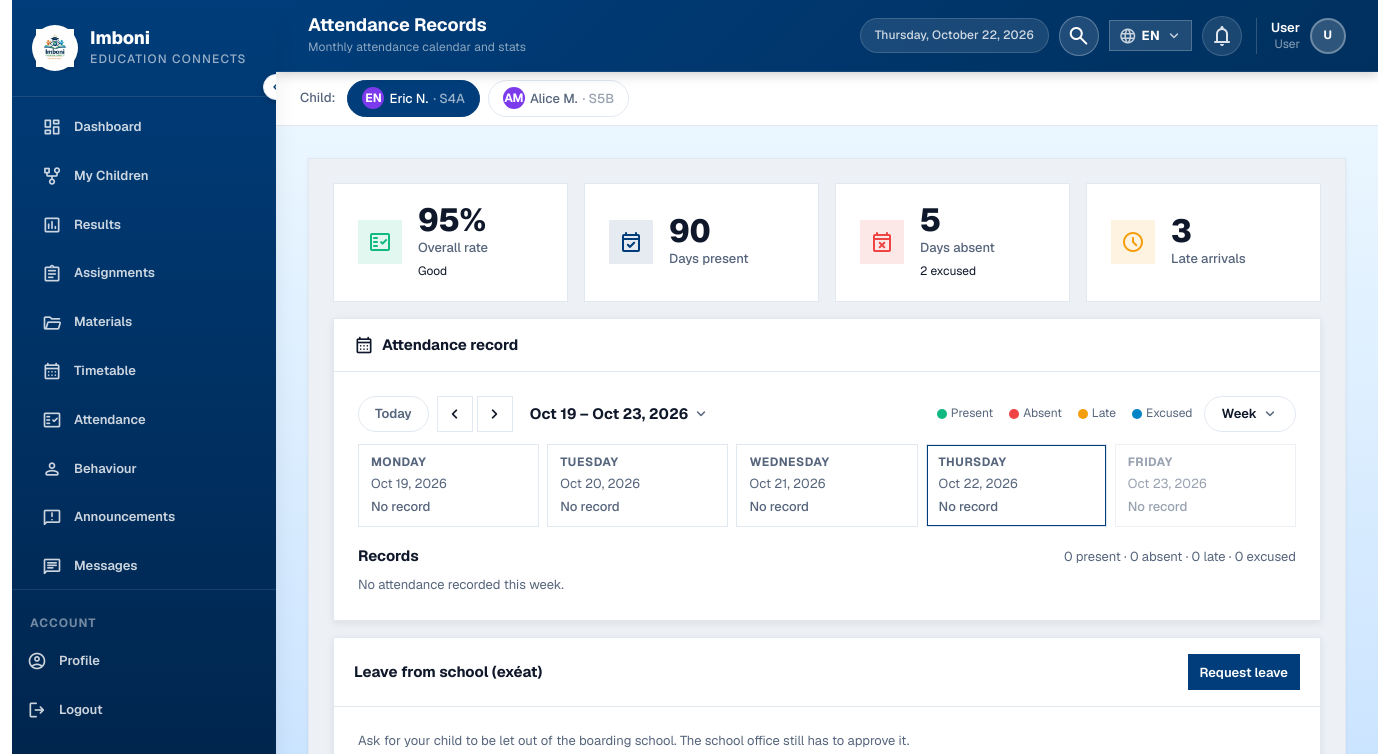
Test: ParentAttendance › switching the child tab re-fetches attendance scoped to that child only
Expected: the text "95%" is shown, [418, 204, 488, 236]
Step 1. Click the text "Alice M." → (554, 98), box [530, 90, 578, 107]
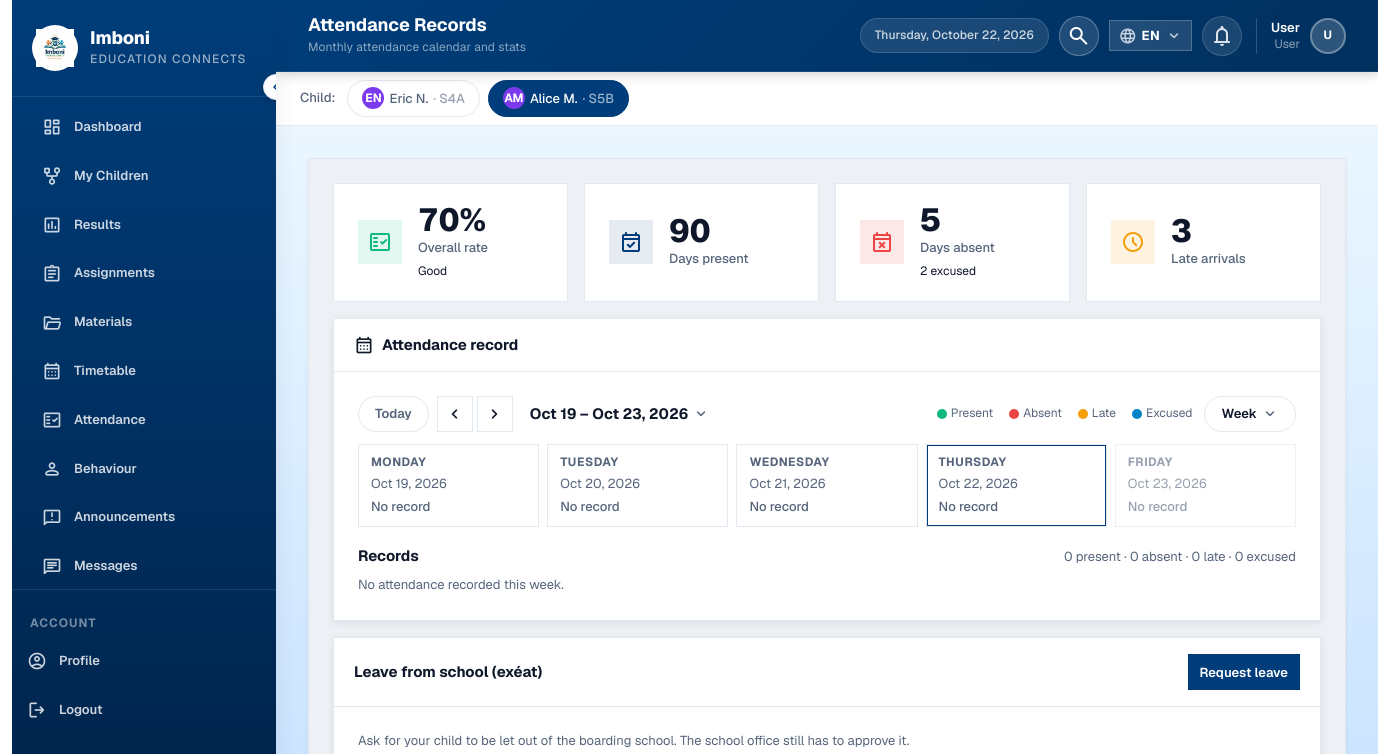
Expected: the text "70%" is shown, [418, 204, 488, 236]
